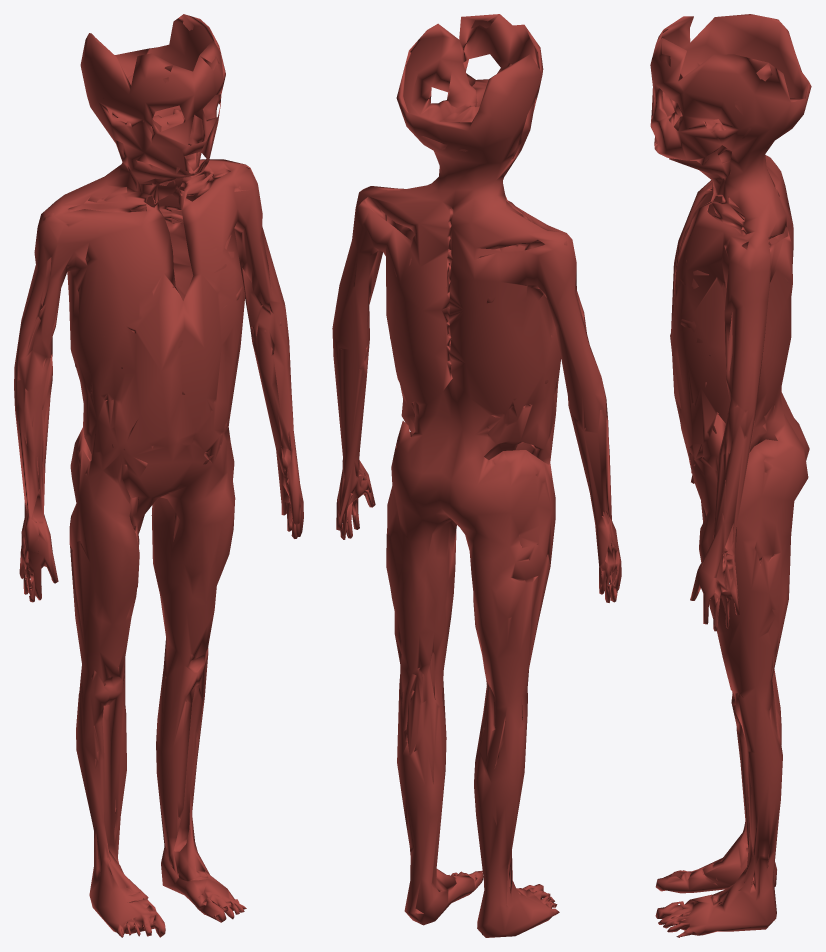
Rendered from pediatric_child_5y_female.muscular.LOD3.glb.
The picture shows the model from 3 angles, left to right: view 1: azimuth 30°, elevation 25°; view 2: azimuth 150°, elevation 25°; view 3: azimuth 270°, elevation 25°; orthographic projection.
Parts seen in each view (by area): view 1: PEDIATRIC.CHILD_5Y.FEMALE.MUSCULAR.MUSCLE; view 2: PEDIATRIC.CHILD_5Y.FEMALE.MUSCULAR.MUSCLE; view 3: PEDIATRIC.CHILD_5Y.FEMALE.MUSCULAR.MUSCLE.
Part boxes in pixels (box(x1,y1,x2,y2)): PEDIATRIC.CHILD_5Y.FEMALE.MUSCULAR.MUSCLE: box(14, 14, 303, 937); PEDIATRIC.CHILD_5Y.FEMALE.MUSCULAR.MUSCLE: box(332, 14, 621, 937); PEDIATRIC.CHILD_5Y.FEMALE.MUSCULAR.MUSCLE: box(650, 14, 811, 937).
Bounding box in the file's own units: 0.3467 × 1.06 × 0.1767.
